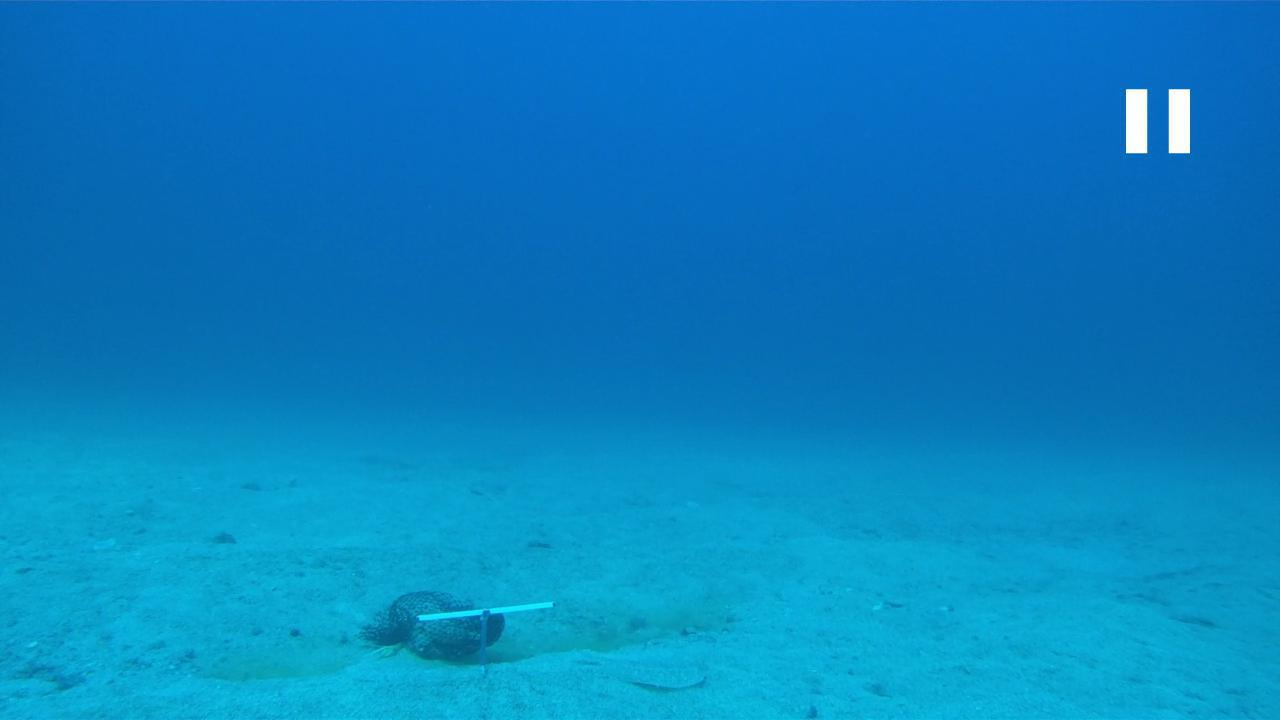bothus: (575, 647, 714, 696)
